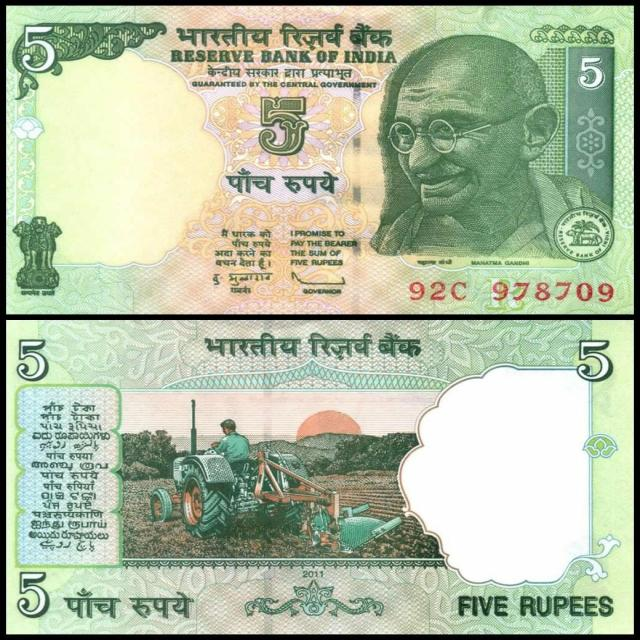5IndianRupees: (11, 319, 626, 628)
